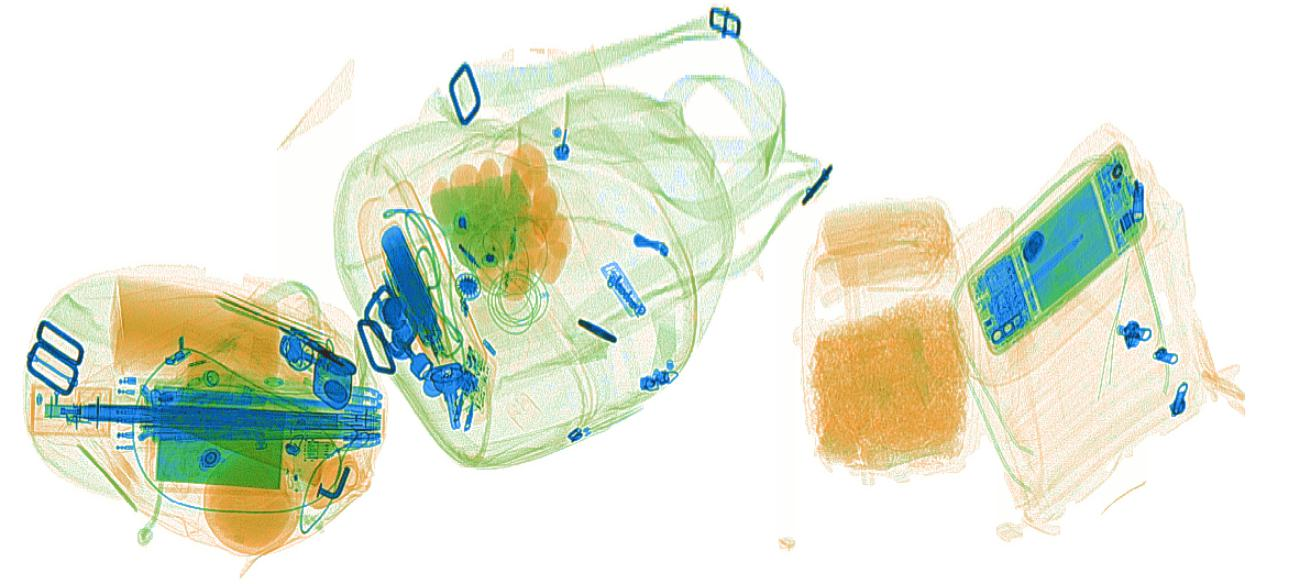battery: (378, 220, 448, 365)
